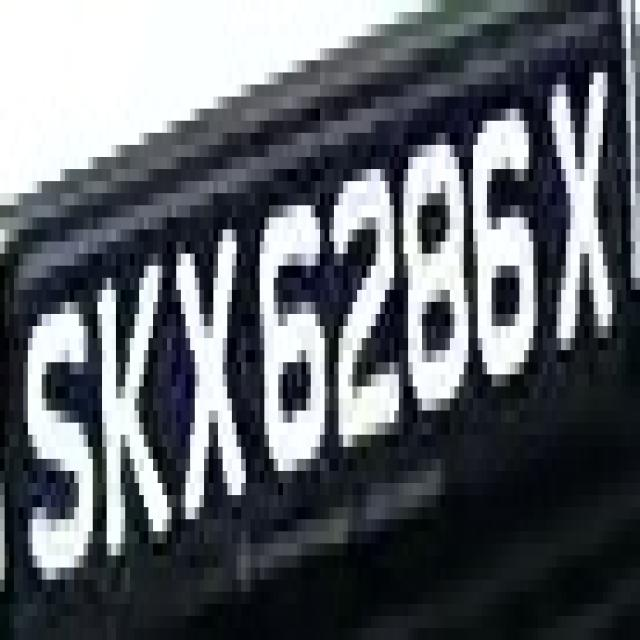2: (315, 97, 399, 495)
6: (241, 169, 334, 531), (459, 72, 552, 422)
8: (385, 96, 478, 459)
K: (88, 230, 172, 568)
S: (19, 278, 102, 604)
X: (162, 181, 260, 556), (543, 0, 626, 350)
